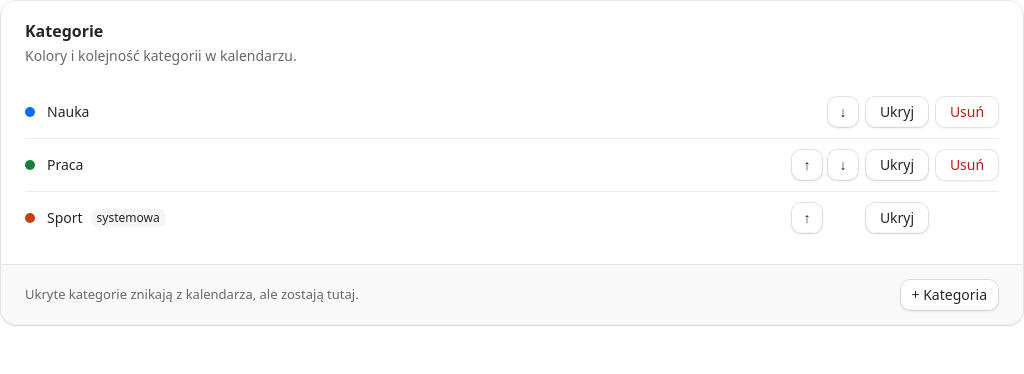
Test: CategoriesCard › błąd ukrywania cofa przycisk
Click the 2nd button "Ukryj".
click(897, 165)  # box [865,149,929,181]
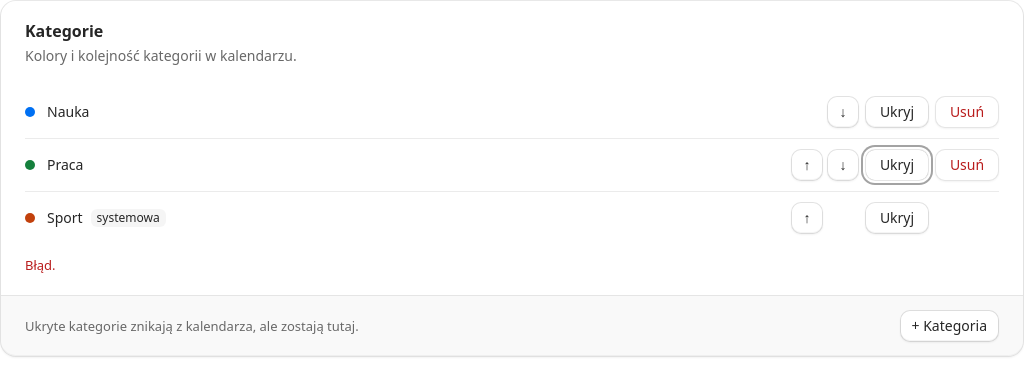
Now the message reads "Błąd.", box [25,256,56,274]
